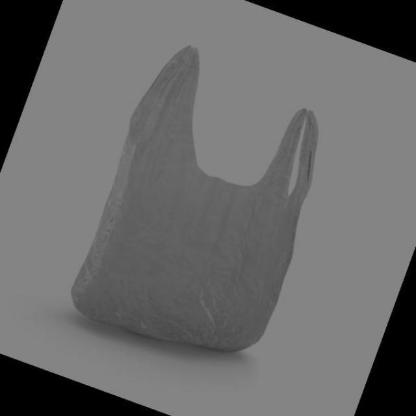Plastic Bag: (71, 44, 319, 354)
